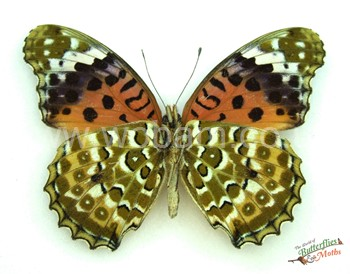Argyreus hyperbius: (19, 21, 326, 252)
butterfly: (21, 23, 328, 254)
